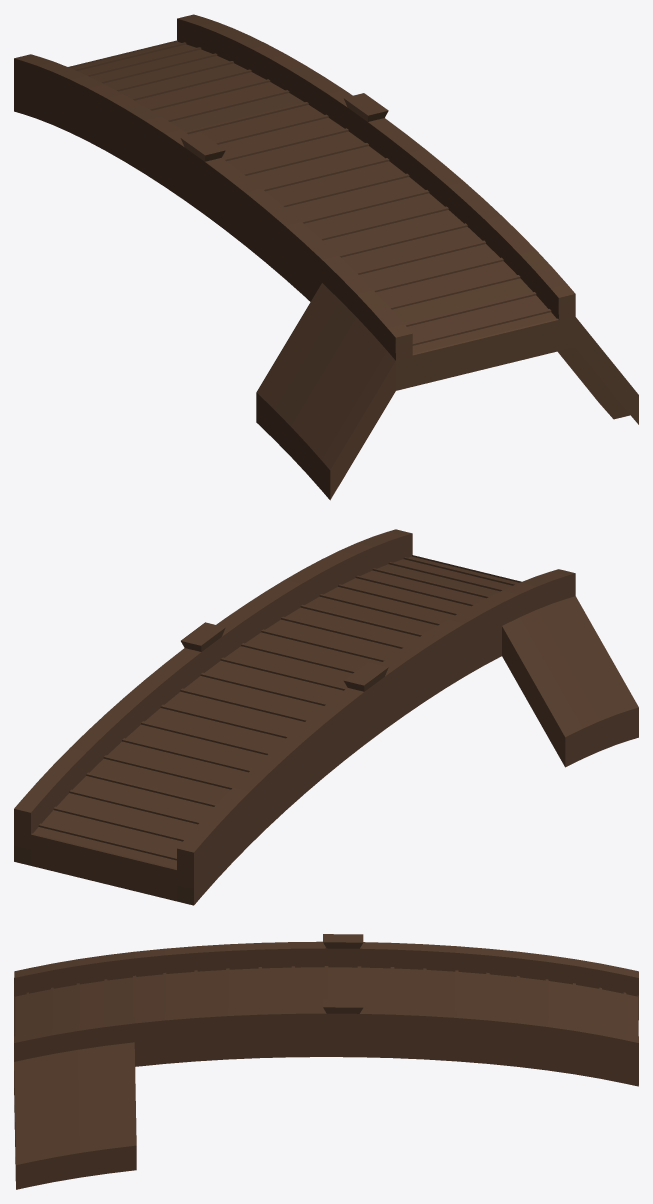
The model's file is bridge.glb.
The picture shows the model from 3 angles, top to bottom: view 1: azimuth 30°, elevation 25°; view 2: azimuth 150°, elevation 25°; view 3: azimuth 270°, elevation 25°; orthographic projection. The views are drawn at different scales.
Visible parts, largest first — view 1: Cube.002; view 2: Cube.002; view 3: Cube.002.
Boxes of the visible parts, x1=… form: Cube.002: x1=14, y1=14, x2=638, y2=500; Cube.002: x1=14, y1=529, x2=638, y2=905; Cube.002: x1=14, y1=934, x2=638, y2=1189.
Bounding box in the file's own units: 3.93 × 2.34 × 8.42.
